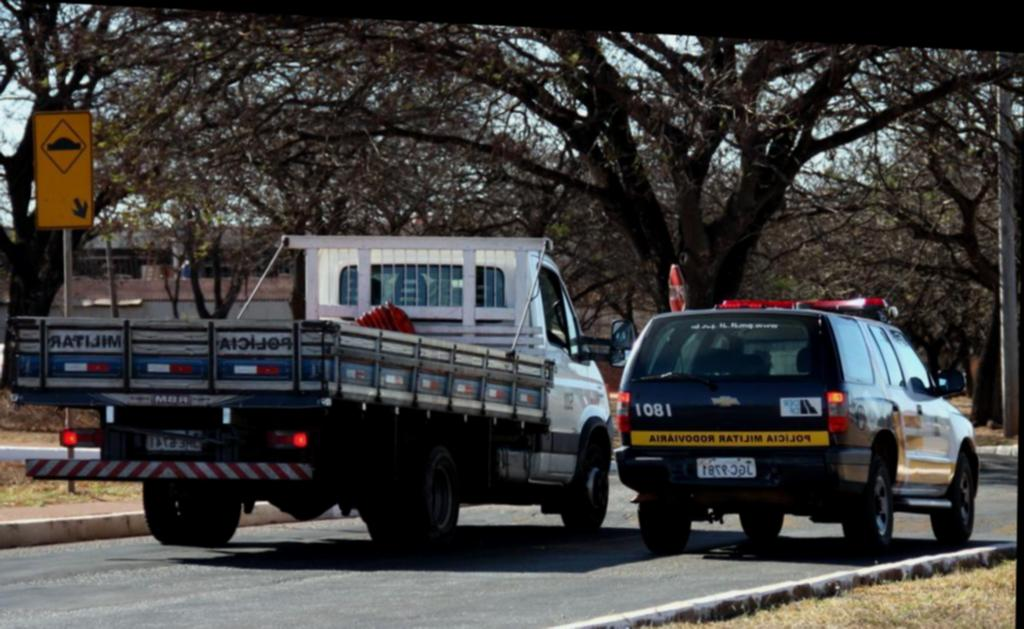License_Plate: (695, 452, 758, 483), (145, 429, 212, 457)
